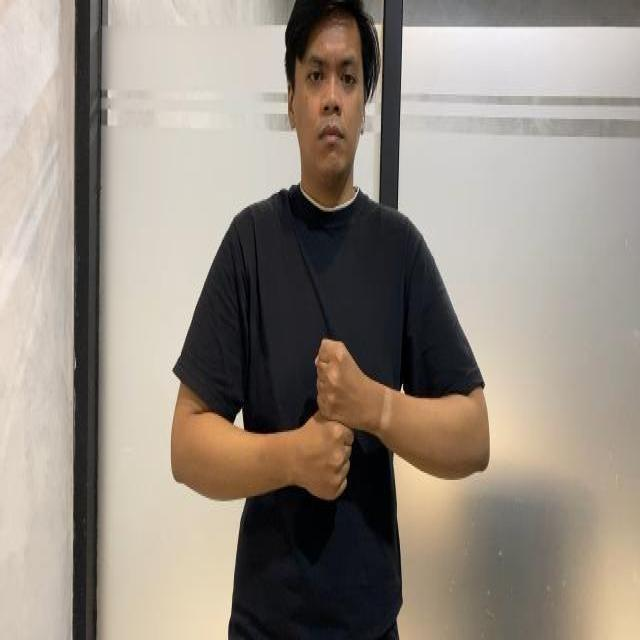G: (276, 326, 389, 513)
